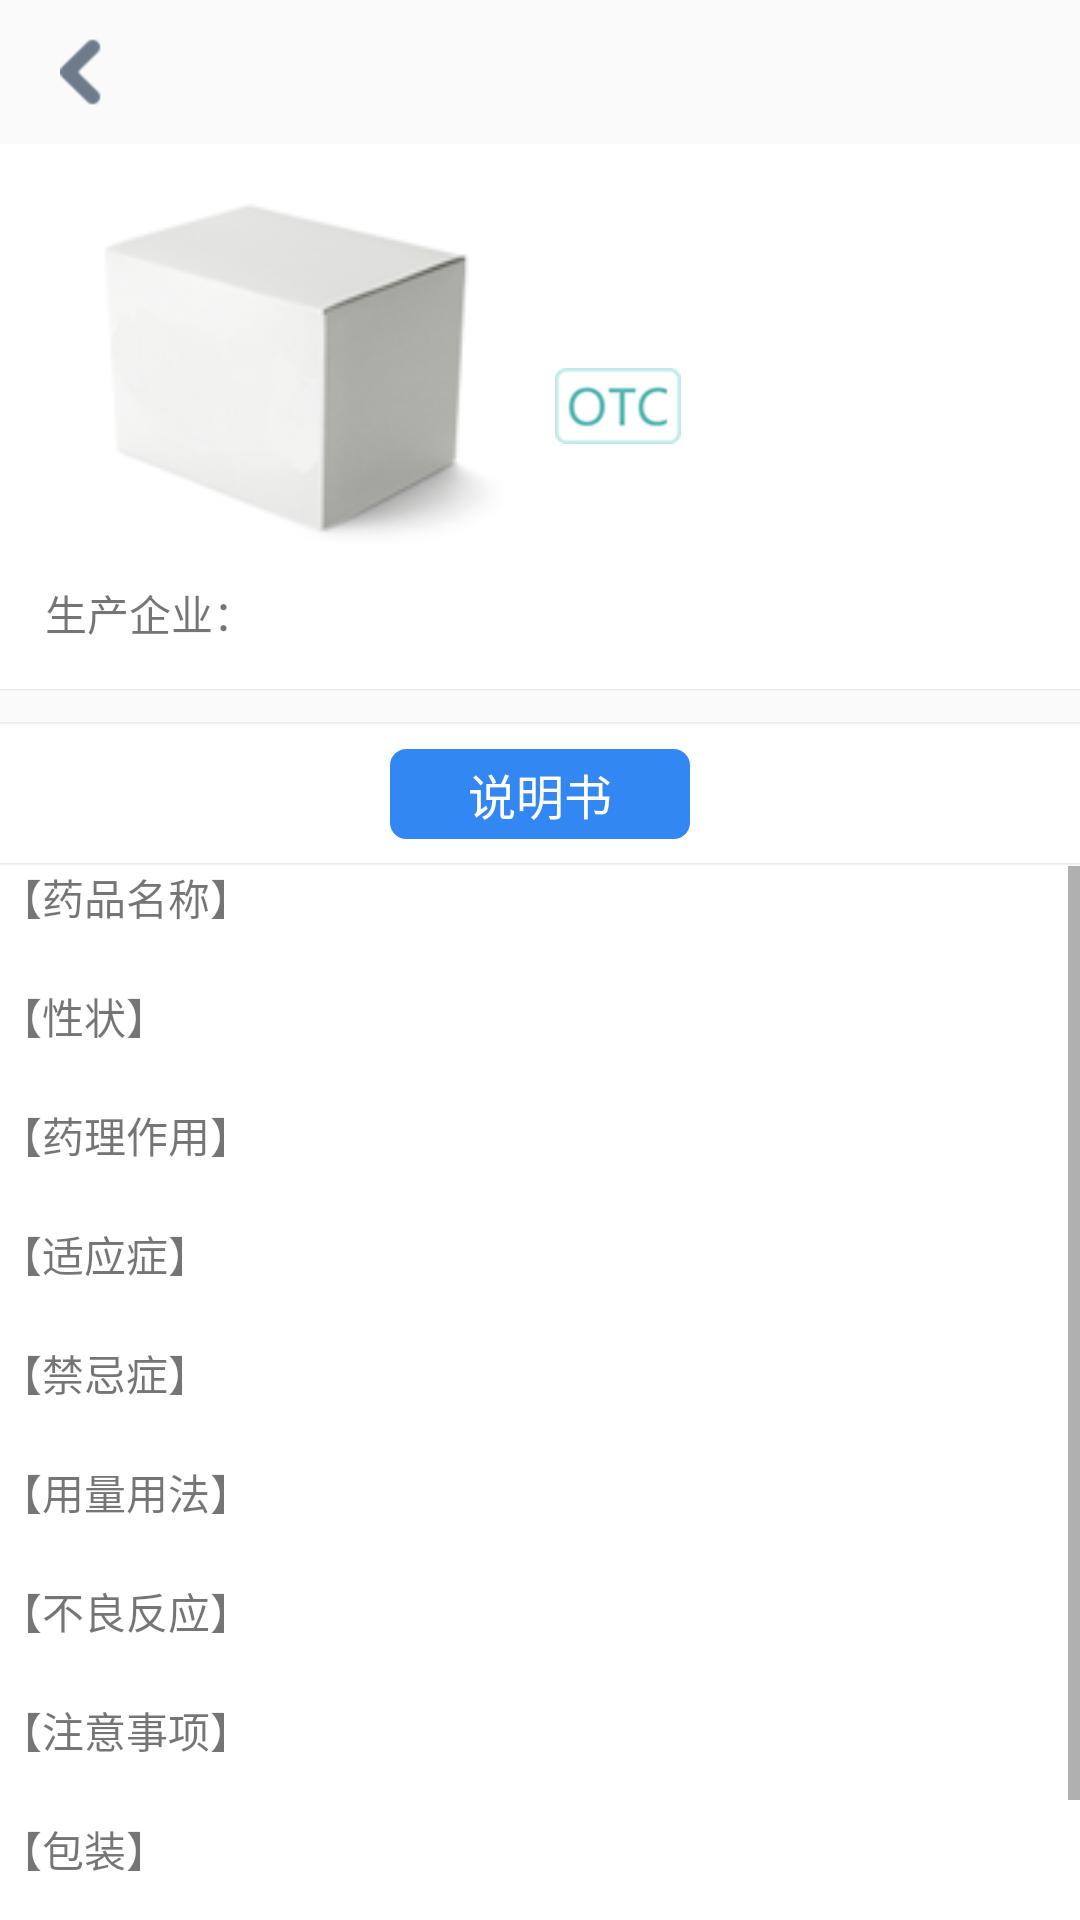

Locate icon controls on the screen. Image size 1080 × 1920, boxes as (x1, y1, x2, y2).
back: (60, 39, 101, 105)
